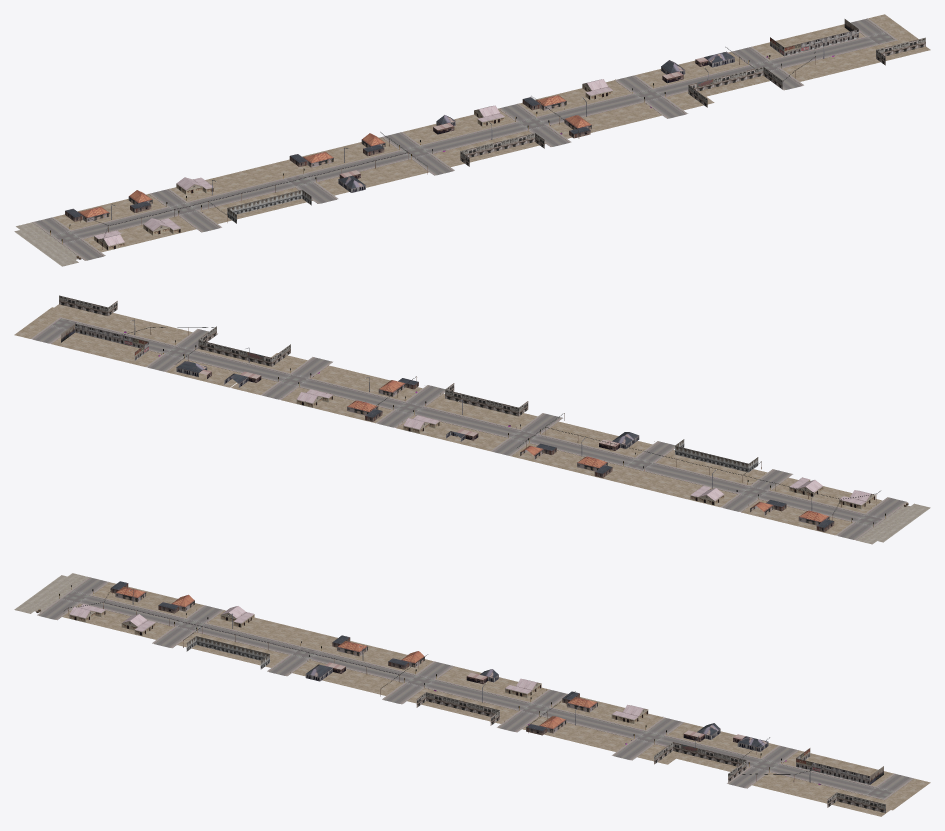
File: vegas.glb
3 renders of one model, top to bottom at view 1: azimuth 30°, elevation 25°; view 2: azimuth 150°, elevation 25°; view 3: azimuth 330°, elevation 25°, orthographic.
Visible parts, largest first — view 1: VEGAS_LEVELMODEL; view 2: VEGAS_LEVELMODEL; view 3: VEGAS_LEVELMODEL.
Boxes of the visible parts, x1,y1,x2,y2 form: VEGAS_LEVELMODEL: (14, 14, 930, 266); VEGAS_LEVELMODEL: (14, 295, 930, 544); VEGAS_LEVELMODEL: (14, 573, 930, 816).
Bounding box in the file's own units: 26.32 × 0.4893 × 2.76.
12 materials, 11 textured.
